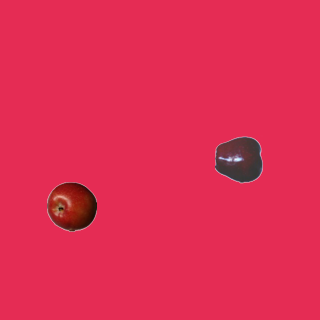Apple Braeburn: (46, 181, 96, 231)
Apple Red Delicious: (214, 134, 264, 184)
